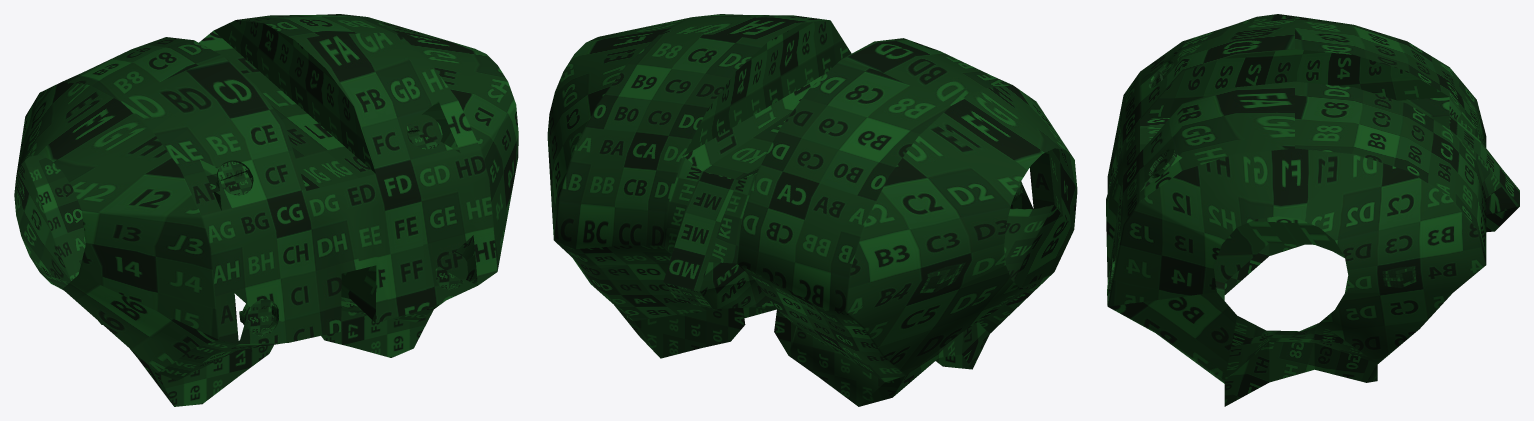
Rendered from TORSO_V7.fbx.
The picture shows the model from 3 angles, left to right: view 1: azimuth 30°, elevation 25°; view 2: azimuth 150°, elevation 25°; view 3: azimuth 270°, elevation 25°; orthographic projection. The views are drawn at different scales.
Parts seen in each view (by area): view 1: polySurface1, polySurface2, polySurface3; view 2: polySurface1; view 3: polySurface1.
Boxes of the visible parts, bbox=[...] form: polySurface1: bbox=[14, 14, 518, 406]; polySurface2: bbox=[218, 161, 252, 195]; polySurface3: bbox=[239, 299, 274, 332]; polySurface1: bbox=[547, 14, 1077, 406]; polySurface1: bbox=[1106, 14, 1519, 406].
Size of the model in its own units: 2.54 by 1.7 by 2.19.
1 material, 1 textured.
